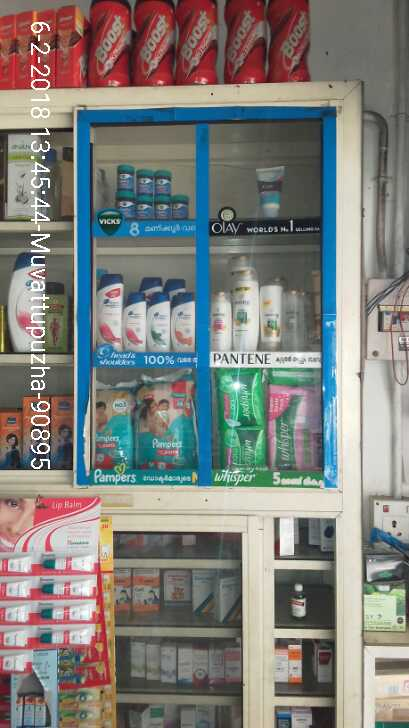vicks: (120, 167, 191, 220)
